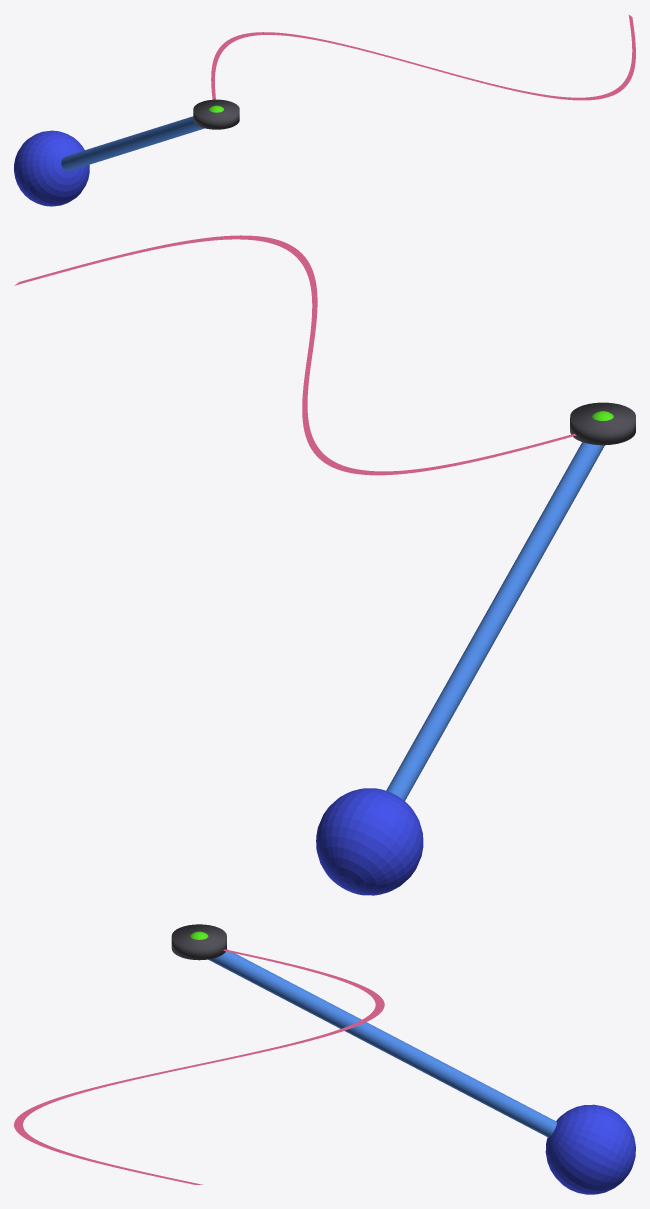
File: esfera21.glb
3 views of the same model, one above another, from view 1: azimuth 30°, elevation 25°; view 2: azimuth 150°, elevation 25°; view 3: azimuth 270°, elevation 25° (orthographic). The views are drawn at different scales.
Visible parts, largest first — view 1: Pendulum, SineMesh, Cylinder; view 2: Pendulum, SineMesh, Cylinder; view 3: Pendulum, SineMesh, Cylinder.
Boxes of the visible parts, <box> form: Pendulum: <box>14,116,204,206</box>; SineMesh: <box>211,15,635,100</box>; Cylinder: <box>193,99,239,129</box>; Pendulum: <box>316,442,604,895</box>; SineMesh: <box>14,235,576,475</box>; Cylinder: <box>570,402,635,445</box>; Pendulum: <box>208,949,635,1194</box>; SineMesh: <box>14,949,384,1184</box>; Cylinder: <box>171,924,226,960</box>.
Size of the model in its own units: 6.78 by 3.15 by 6.88.
